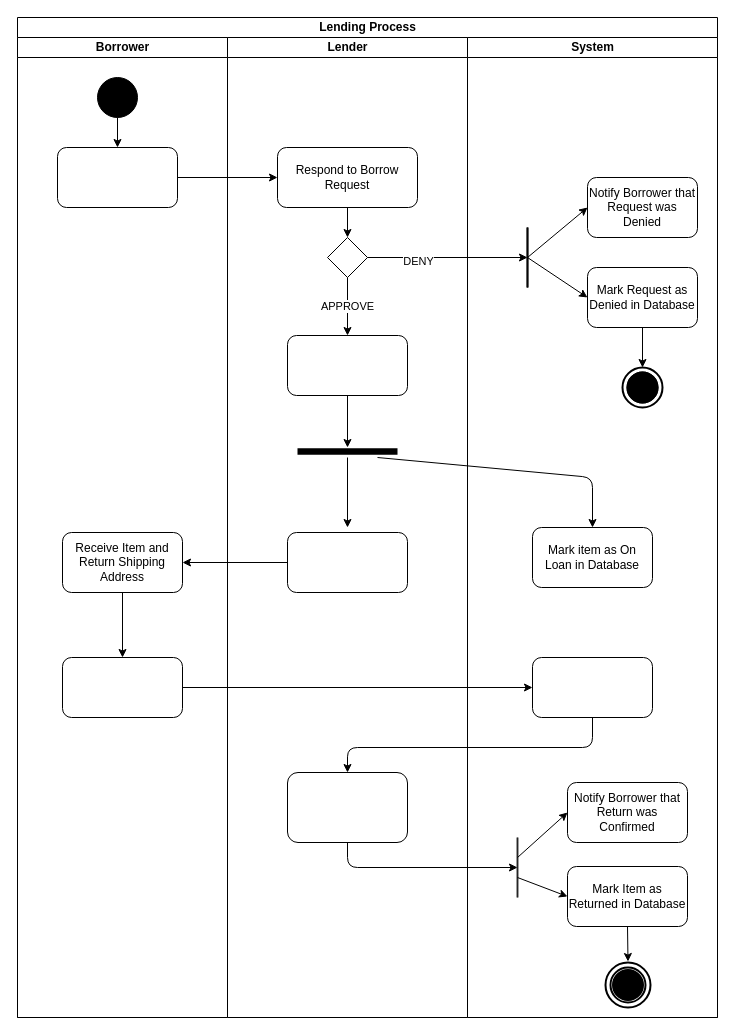
This 735x1035 diagram has some shape labels left out. Here are the shapes that lost their labels. From the top down, the centre of each, then its label:
At pixel 117 177: "Submit request to borrow item".
At pixel 347 365: "Confirm Approval".
At pixel 347 562: "View Borrower's Shipping Address and Send Item".
At pixel 122 687: "Send Item back to Lender and mark item as Returned".
At pixel 592 687: "Mark Item as Returning in Database".
At pixel 347 807: "Receive Item and Confirm Item has beenReturned".
